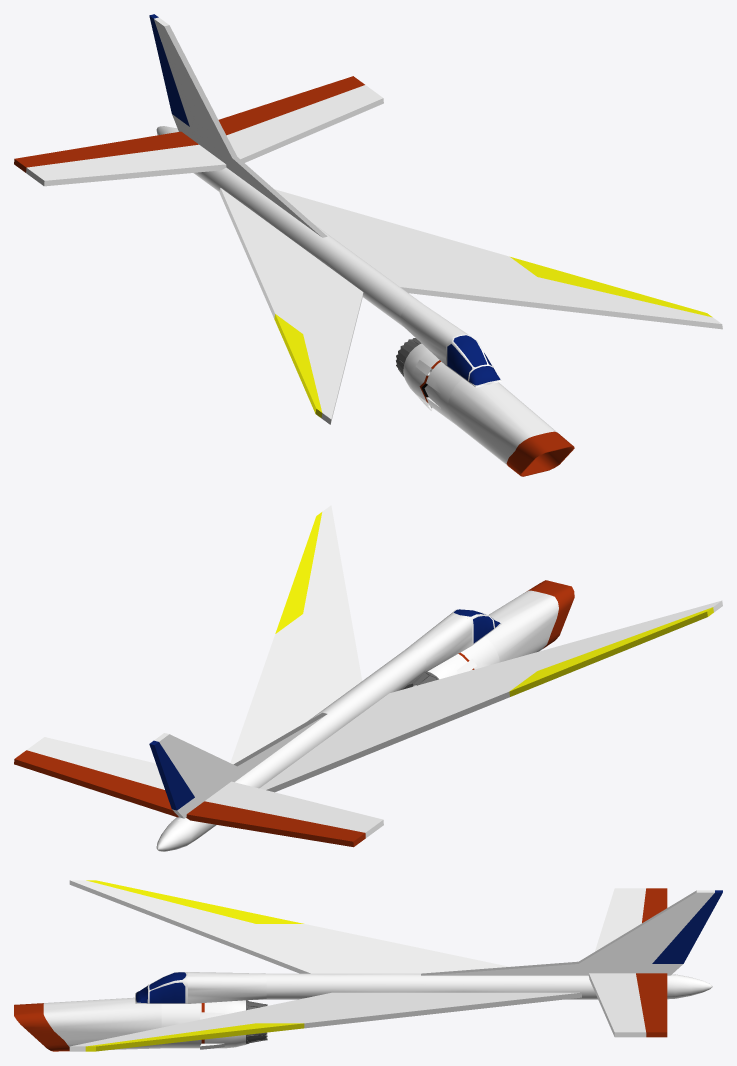
The model's file is progress_export.obj.
3 renders of one model, top to bottom at view 1: azimuth 30°, elevation 25°; view 2: azimuth 150°, elevation 25°; view 3: azimuth 270°, elevation 25°, orthographic. The views are drawn at different scales.
Visible parts, largest first — view 1: Mesh_42, Mesh_38, Mesh_35, Mesh_36, Mesh_40, Mesh_33, Mesh_28, Body_1, Control Surface_37, Control Surface_41, Mesh_29, Mesh_27 (+6 smaller); view 2: Mesh_42, Mesh_38, Mesh_35, Mesh_36, Control Surface_37, Control Surface_41, Mesh_40, Mesh_28, Control Surface_39, Mesh_33, Mesh_29, Mesh_27 (+7 smaller); view 3: Mesh_38, Mesh_42, Mesh_35, Mesh_33, Mesh_28, Mesh_40, Mesh_29, Mesh_32, Mesh_27, Body_1, Control Surface_43, Mesh_36 (+7 smaller).
Part boxes in pixels (bbox=[...]): Mesh_42: bbox=[274, 189, 722, 329]; Mesh_38: bbox=[219, 188, 363, 424]; Mesh_35: bbox=[448, 378, 574, 476]; Mesh_36: bbox=[26, 144, 226, 186]; Mesh_40: bbox=[226, 85, 383, 162]; Mesh_33: bbox=[154, 17, 236, 157]; Mesh_28: bbox=[325, 246, 421, 326]; Body_1: bbox=[403, 343, 463, 423]; Control Surface_37: bbox=[14, 131, 198, 172]; Control Surface_41: bbox=[218, 76, 364, 135]; Mesh_29: bbox=[250, 192, 345, 263]; Mesh_27: bbox=[400, 301, 467, 365]; Mesh_42: bbox=[230, 505, 362, 764]; Mesh_38: bbox=[259, 600, 722, 792]; Mesh_35: bbox=[485, 580, 574, 662]; Mesh_36: bbox=[205, 781, 383, 837]; Control Surface_37: bbox=[186, 801, 365, 847]; Control Surface_41: bbox=[14, 750, 178, 817]; Mesh_40: bbox=[26, 737, 164, 789]; Mesh_28: bbox=[330, 648, 426, 720]; Control Surface_39: bbox=[509, 607, 713, 696]; Mesh_33: bbox=[154, 733, 236, 796]; Mesh_29: bbox=[265, 703, 351, 775]; Mesh_27: bbox=[405, 614, 471, 673]; Mesh_38: bbox=[69, 880, 509, 973]; Mesh_42: bbox=[69, 992, 581, 1051]; Mesh_35: bbox=[14, 997, 161, 1051]; Mesh_33: bbox=[578, 890, 714, 963]; Mesh_28: bbox=[266, 973, 397, 999]; Mesh_40: bbox=[588, 973, 646, 1037]; Mesh_29: bbox=[398, 973, 529, 992]; Mesh_32: bbox=[421, 961, 682, 975]; Mesh_27: bbox=[188, 972, 266, 1003]; Body_1: bbox=[161, 1000, 245, 1049]; Control Surface_43: bbox=[85, 1023, 304, 1051]; Mesh_36: bbox=[595, 888, 645, 951].
Bounding box in the file's own units: 7.51 × 3.25 × 13.5.
Materials: 1 (1 with a texture image).
